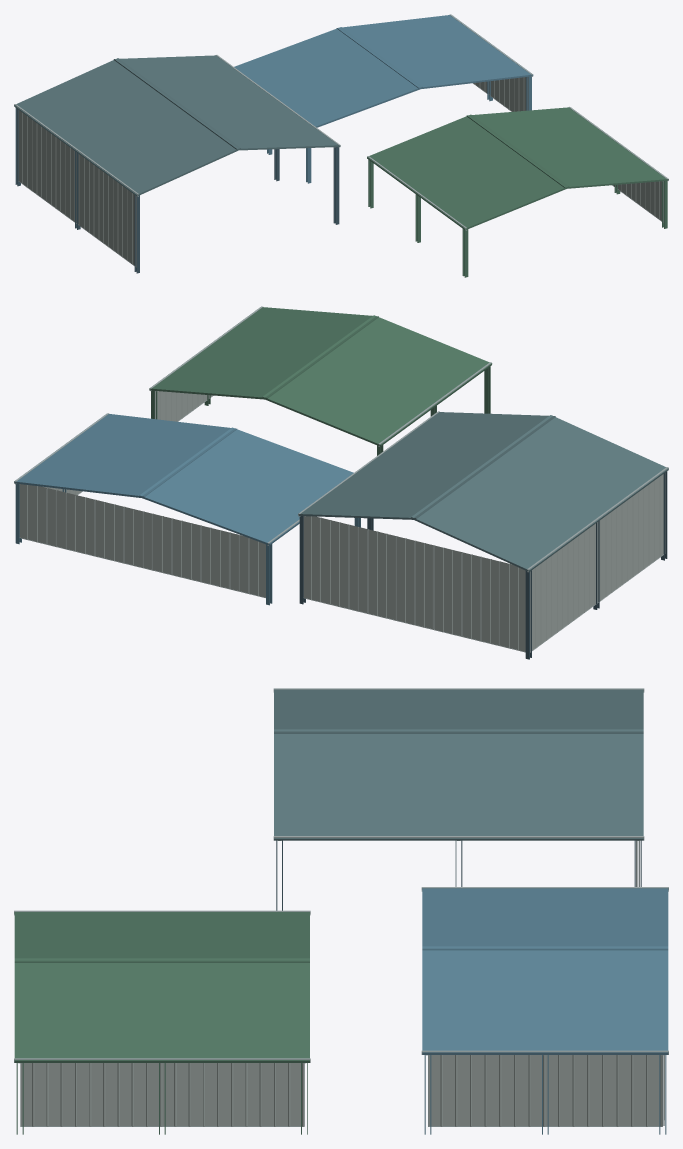
File: ibd-expansion.glb
3 views of the same model, one above another, from view 1: azimuth 30°, elevation 25°; view 2: azimuth 150°, elevation 25°; view 3: azimuth 270°, elevation 25° (orthographic). The views are drawn at different scales.
Visible parts, largest first — view 1: coil-painted-roof, dispatch-painted-roof, parts-painted-roof, coil-pressed-wall, coil-painted-front-portals, dispatch-painted-front-portals, parts-pressed-wall, dispatch-pressed-wall, coil-zinc-eave-and-flashing, dispatch-zinc-eave-and-flashing, parts-painted-front-portals; view 2: coil-painted-roof, dispatch-painted-roof, parts-painted-roof, coil-pressed-rear-wall, parts-pressed-rear-wall, coil-pressed-wall, coil-painted-front-portals, coil-zinc-eave-and-flashing, dispatch-pressed-wall, parts-painted-front-portals, dispatch-zinc-eave-and-flashing, dispatch-painted-front-portals (+1 smaller); view 3: coil-painted-roof, dispatch-painted-roof, parts-painted-roof, dispatch-pressed-wall, parts-pressed-wall, parts-zinc-eave-and-flashing, coil-zinc-eave-and-flashing, dispatch-zinc-eave-and-flashing, parts-painted-front-portals.
Boxes of the visible parts, <box> form: coil-painted-roof: <box>14,55,340,196</box>; dispatch-painted-roof: <box>367,107,668,230</box>; parts-painted-roof: <box>234,15,533,127</box>; coil-pressed-wall: <box>18,110,135,266</box>; coil-painted-front-portals: <box>15,108,339,273</box>; dispatch-painted-front-portals: <box>368,160,667,277</box>; parts-pressed-wall: <box>473,77,527,111</box>; dispatch-pressed-wall: <box>613,181,661,220</box>; coil-zinc-eave-and-flashing: <box>14,55,340,267</box>; dispatch-zinc-eave-and-flashing: <box>367,106,668,230</box>; parts-painted-front-portals: <box>267,76,531,183</box>; coil-painted-roof: <box>298,412,668,571</box>; dispatch-painted-roof: <box>149,307,492,446</box>; parts-painted-roof: <box>14,414,353,545</box>; coil-pressed-rear-wall: <box>303,516,525,651</box>; parts-pressed-rear-wall: <box>19,484,265,597</box>; coil-pressed-wall: <box>530,474,663,652</box>; coil-painted-front-portals: <box>299,471,667,659</box>; coil-zinc-eave-and-flashing: <box>298,411,668,652</box>; dispatch-pressed-wall: <box>155,391,212,421</box>; parts-painted-front-portals: <box>15,483,360,605</box>; dispatch-zinc-eave-and-flashing: <box>149,306,491,446</box>; dispatch-painted-front-portals: <box>151,366,490,455</box>; coil-painted-roof: <box>274,689,643,840</box>; dispatch-painted-roof: <box>14,912,309,1062</box>; parts-painted-roof: <box>422,888,668,1054</box>; dispatch-pressed-wall: <box>20,1063,303,1126</box>; parts-pressed-wall: <box>428,1055,662,1126</box>; parts-zinc-eave-and-flashing: <box>421,887,668,1126</box>; coil-zinc-eave-and-flashing: <box>273,688,644,886</box>; dispatch-zinc-eave-and-flashing: <box>14,910,310,1126</box>; parts-painted-front-portals: <box>424,1055,666,1134</box>.
Bounding box in the file's own units: 62.68 × 13.57 × 53.
